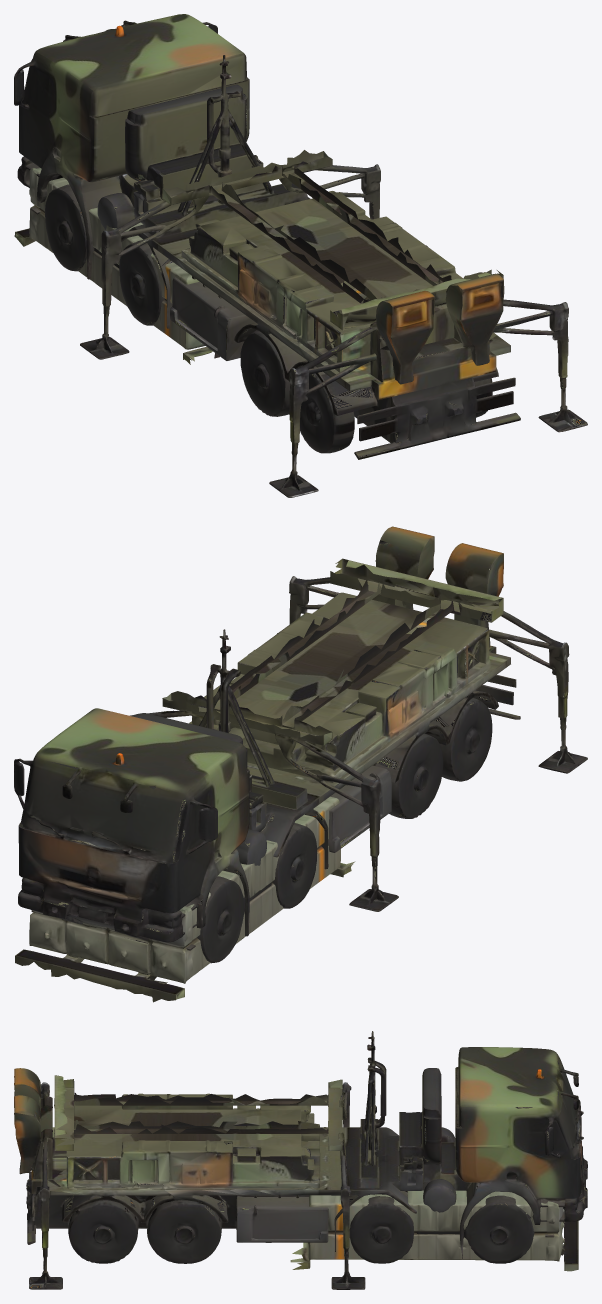
The model's file is sampt.glb.
3 renders of one model, top to bottom at view 1: azimuth 30°, elevation 25°; view 2: azimuth 150°, elevation 25°; view 3: azimuth 270°, elevation 25°, orthographic. The views are drawn at different scales.
Parts seen in each view (by area): view 1: body|material_0, cradle|material_0; view 2: body|material_0, cradle|material_0; view 3: body|material_0, cradle|material_0.
Part boxes in pixels (<box>): body|material_0: <box>14,14,587,497</box>; cradle|material_0: <box>14,168,219,364</box>; body|material_0: <box>14,526,587,963</box>; cradle|material_0: <box>15,796,355,1002</box>; body|material_0: <box>14,1031,587,1289</box>; cradle|material_0: <box>290,1190,578,1271</box>.
Bounding box in the file's own units: 5.06 × 4.25 × 10.46.
Materials: 2 (2 with a texture image).
